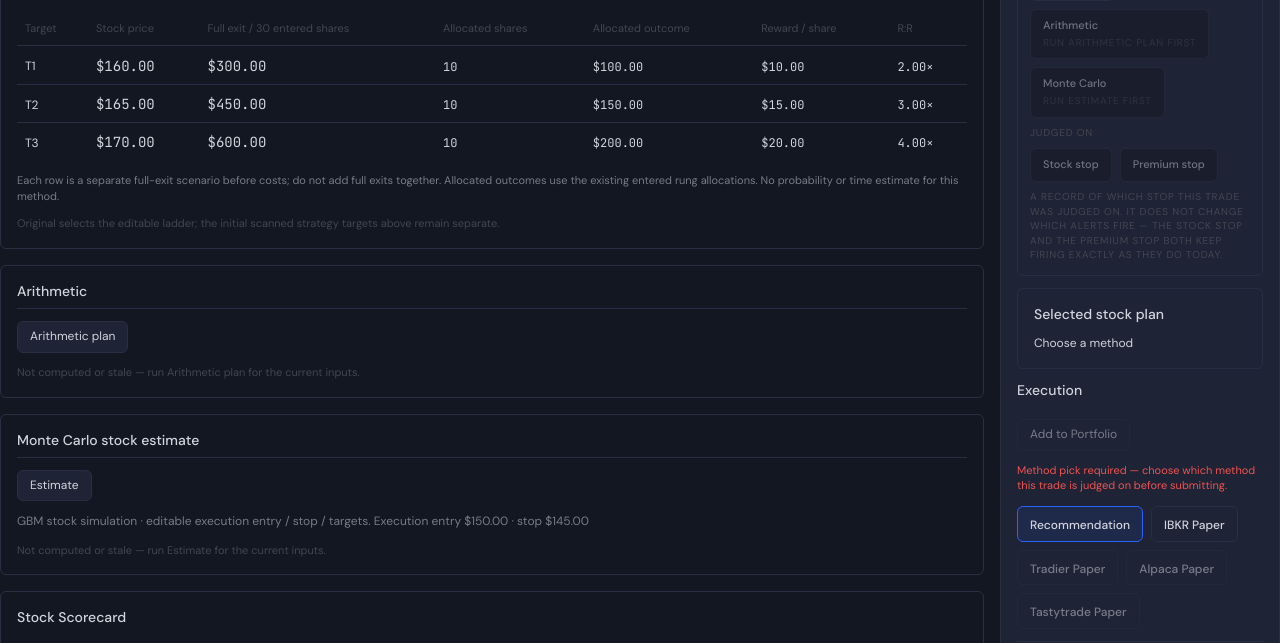
Test case: latest follows successful completion across concurrently running methods in reverse request order
(page scrolled)
Click the button "Arithmetic plan" at (73, 337), box 17,321 -> 128,353
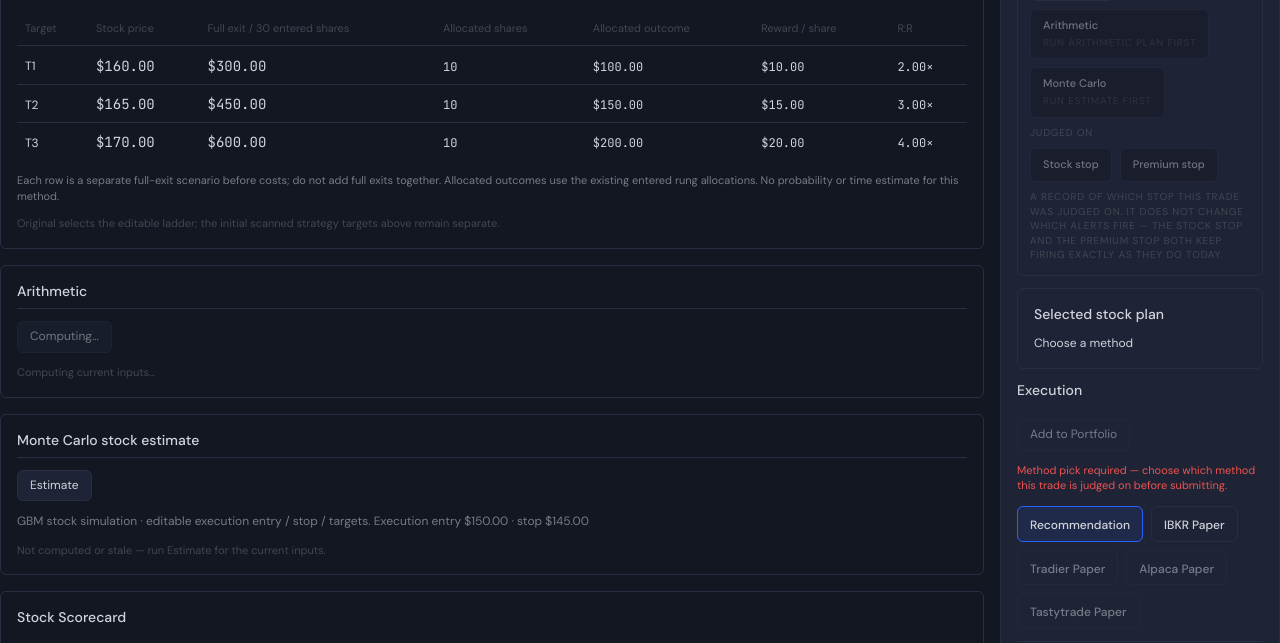
Click the button "Estimate" at (54, 485), box 17,470 -> 92,501
(page scrolled)
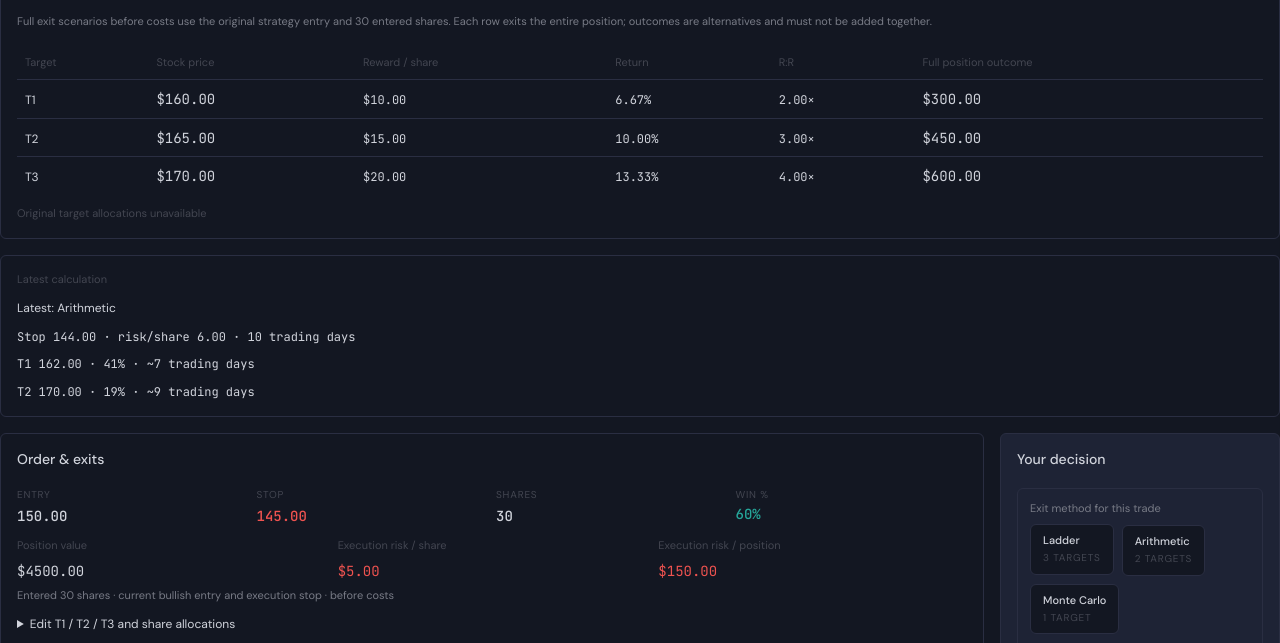
Expected: the text "Latest: Arithmetic" is shown, 17,300 -> 116,316
Expected: the text "Stop 144.00 · risk/share 6.00 · 10 trading days" is shown, 17,328 -> 356,344
